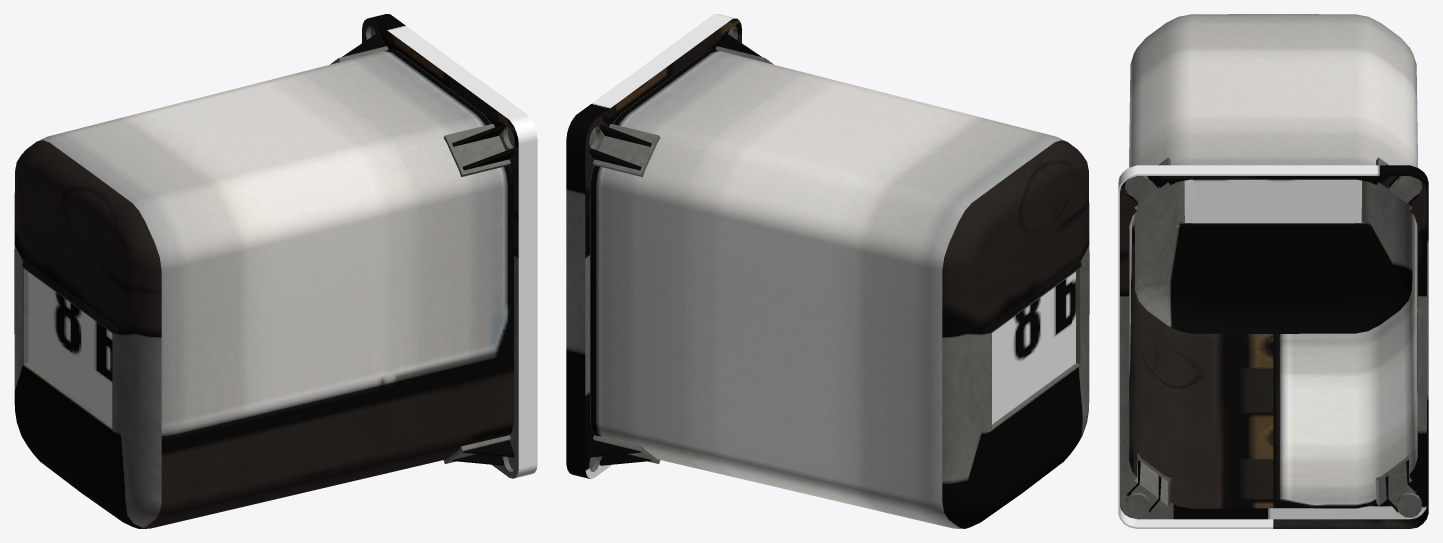
The model's file is nmsh_glass.fbx.
3 views of the same model, side by side, from view 1: azimuth 30°, elevation 25°; view 2: azimuth 150°, elevation 25°; view 3: azimuth 270°, elevation 25° (orthographic).
Visible parts, largest first — view 1: nmsh_glass; view 2: nmsh_glass; view 3: nmsh_glass.
Boxes of the visible parts, x1,y1,x2,y2 form: nmsh_glass: (14,14,537,528); nmsh_glass: (566,14,1089,528); nmsh_glass: (1118,14,1428,528).
Size of the model in its own units: 0.1016 by 0.0888 by 0.0705.
